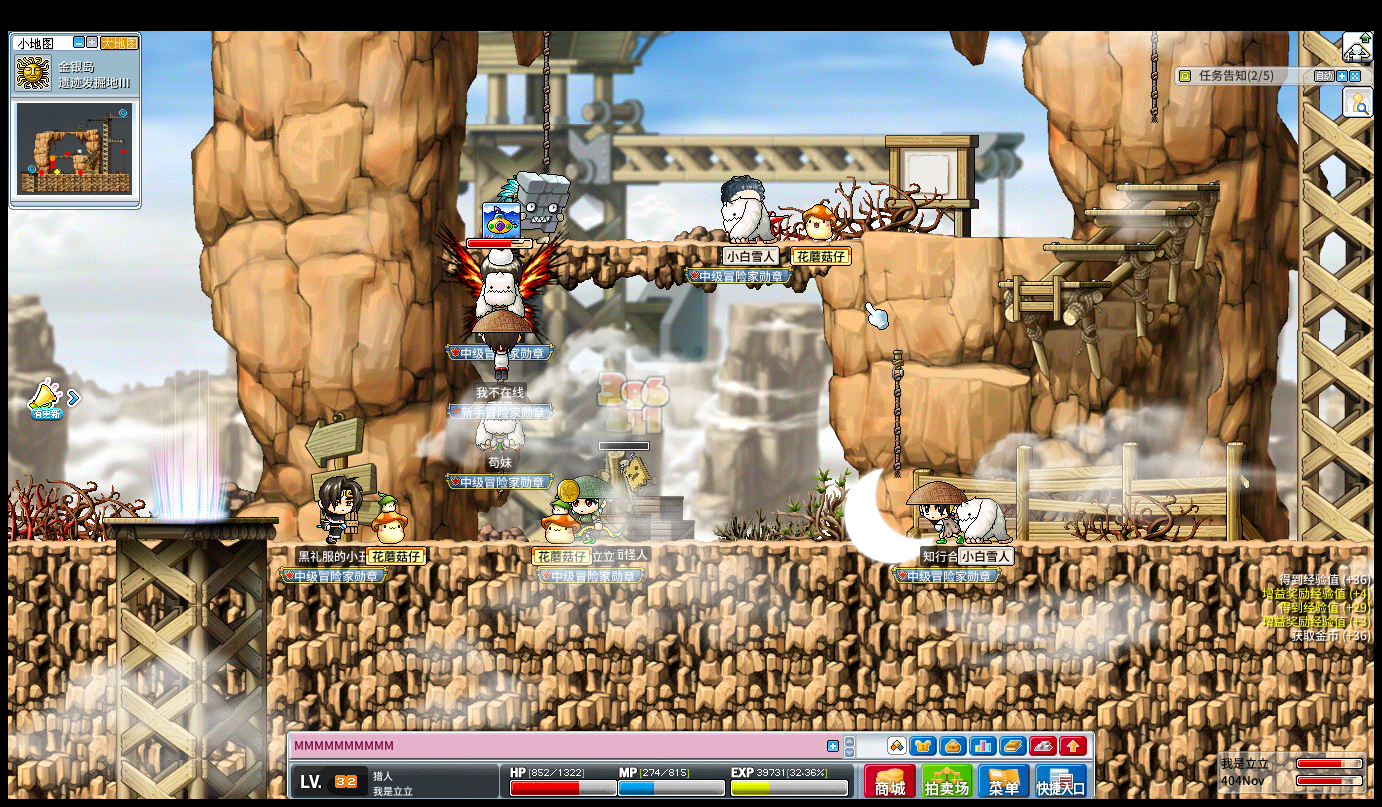floor: (266, 540, 1373, 551), (561, 237, 827, 249), (908, 362, 1031, 387), (101, 515, 280, 524), (921, 232, 1080, 242), (8, 538, 116, 549), (1042, 243, 1157, 251), (998, 280, 1112, 288), (1085, 208, 1198, 216), (1116, 183, 1221, 191)
monster: (519, 171, 570, 243)
rope: (891, 349, 902, 479), (543, 31, 551, 173), (1150, 31, 1159, 124)
